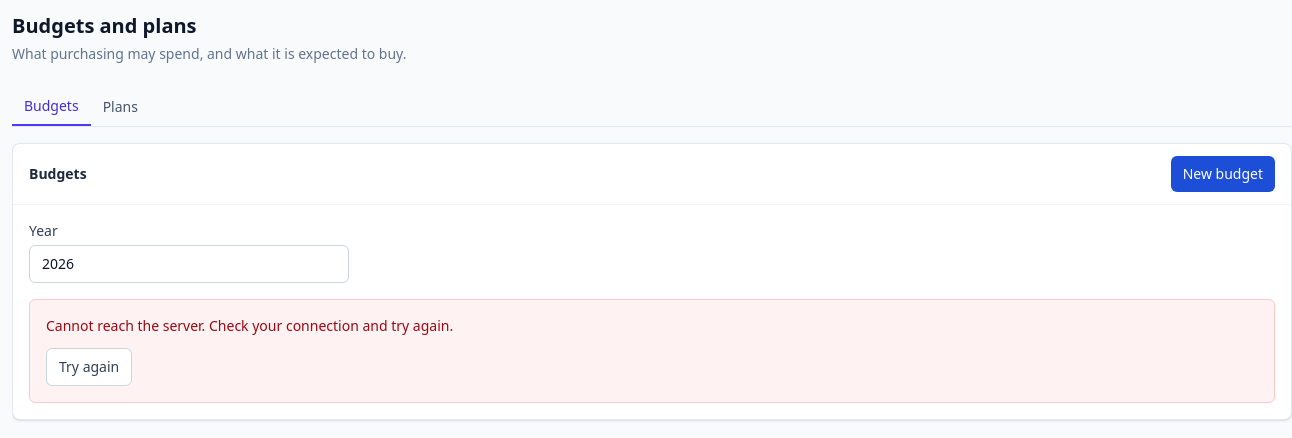
Scenario: Plans tab › approves a draft plan, showing the separation-of-duties refusal
What coordinates should you click on to do the following:
click the tab "Plans"
I would click on:
 (120, 107)
Its box is x1=91 y1=88 x2=150 y2=126.
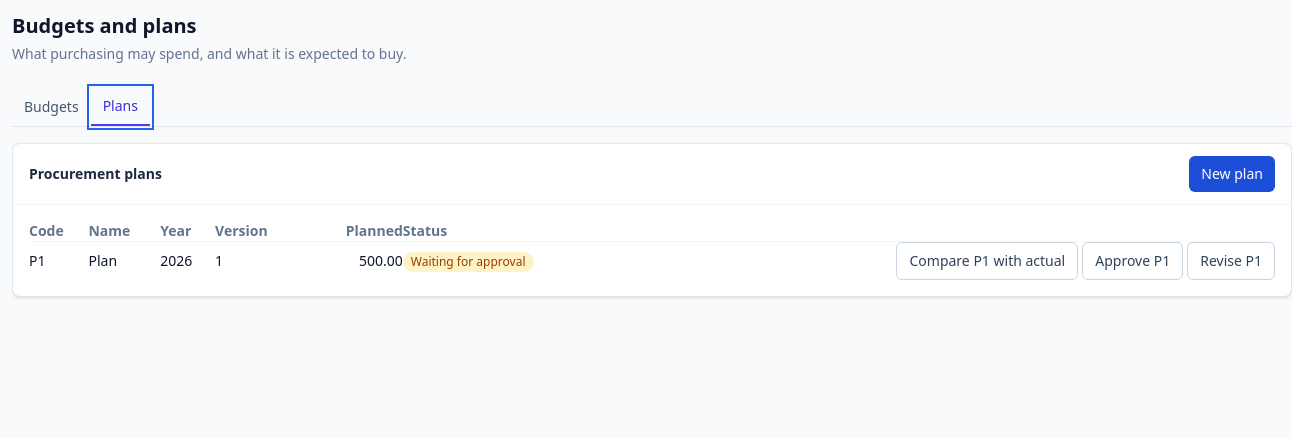
What coordinates should you click on to do the following:
click the button "Approve P1"
I would click on:
 (1133, 261)
Its box is x1=1082 y1=242 x2=1183 y2=280.
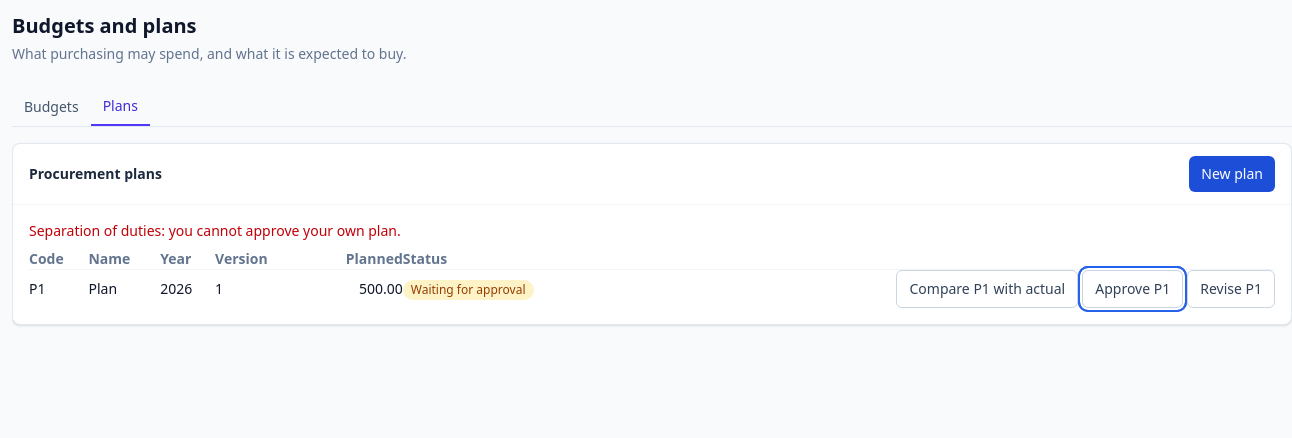
Check: the message shows "cannot approve your own plan", box x1=29 y1=221 x2=401 y2=240
